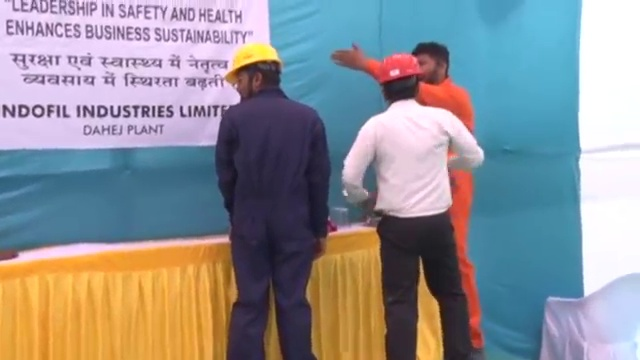helmet: (225, 43, 283, 84), (379, 52, 423, 84)
helmet_off: (414, 40, 452, 87)
helmet_on: (224, 42, 284, 100), (378, 51, 423, 105)
person: (342, 54, 486, 359), (215, 41, 333, 360), (414, 41, 484, 354)
